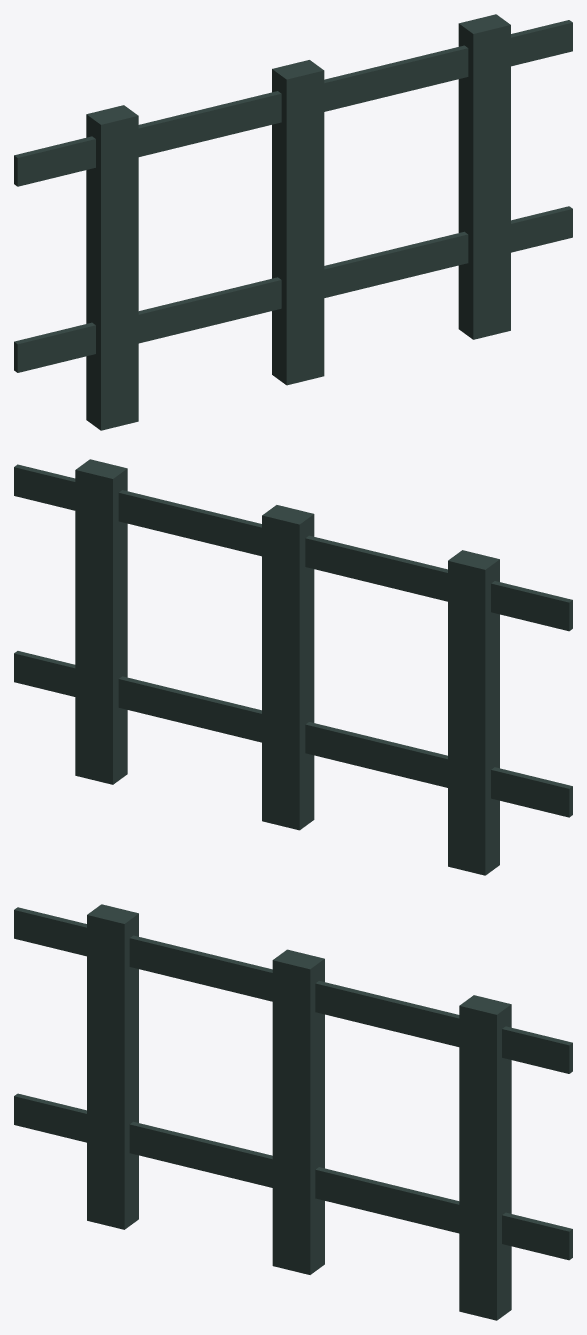
The model's file is fence3.FBX.
3 renders of one model, top to bottom at view 1: azimuth 30°, elevation 25°; view 2: azimuth 150°, elevation 25°; view 3: azimuth 330°, elevation 25°, orthographic.
Visible parts, largest first — view 1: fence3; view 2: fence3; view 3: fence3.
Part boxes in pixels (x1,y1,x2,y2): fence3: [14, 14, 572, 430]; fence3: [14, 459, 572, 875]; fence3: [14, 904, 572, 1320].
Size of the model in its own units: 7.6 by 4 by 0.3462.
